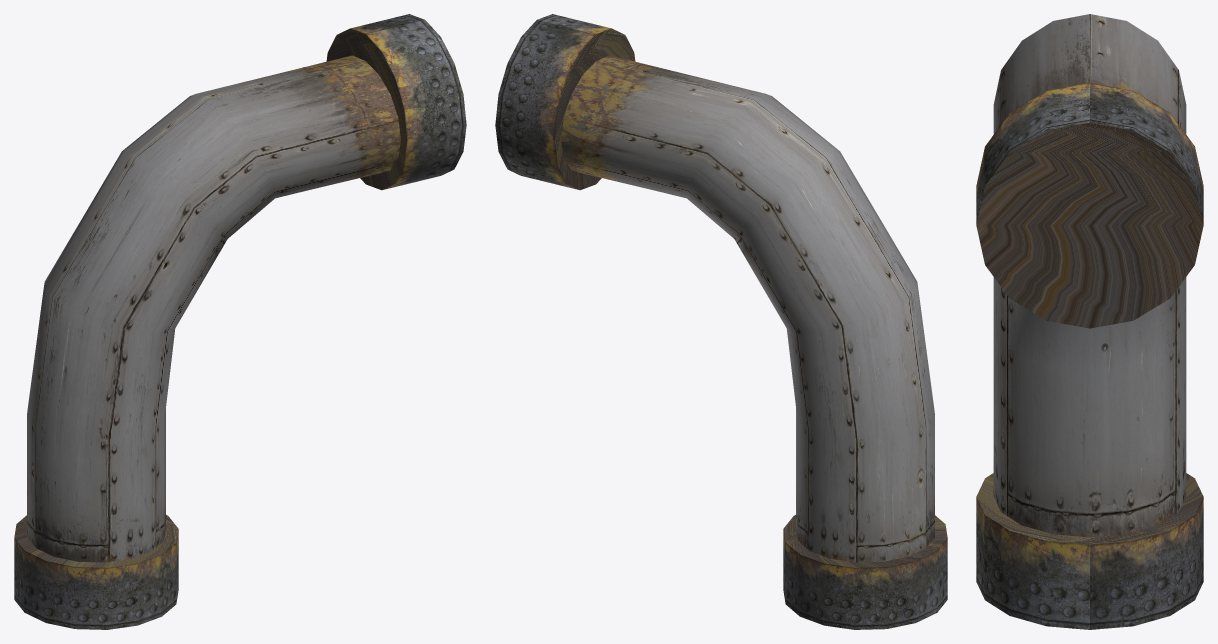
The model's file is Pipe_02.fbx.
3 renders of one model, left to right at view 1: azimuth 30°, elevation 25°; view 2: azimuth 150°, elevation 25°; view 3: azimuth 270°, elevation 25°, orthographic. The views are drawn at different scales.
Visible parts, largest first — view 1: pipe_02; view 2: pipe_02; view 3: pipe_02.
Boxes of the visible parts, x1,y1,x2,y2 form: pipe_02: (14, 14, 466, 629); pipe_02: (495, 14, 947, 629); pipe_02: (976, 14, 1203, 629).
Size of the model in its own units: 105 by 124 by 37.51.
1 material, 1 textured.
